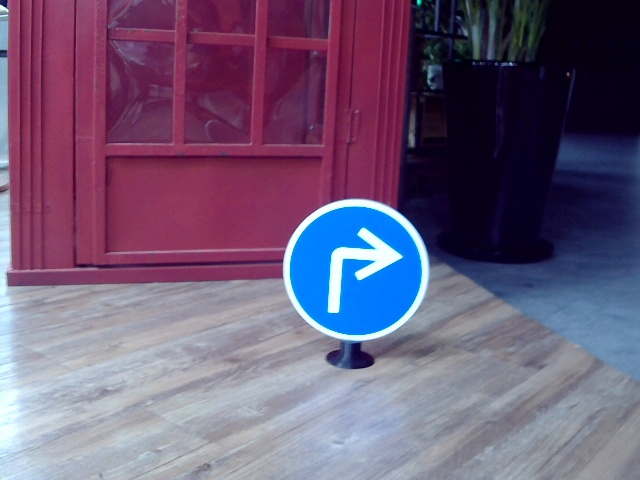turn_right: (321, 223, 405, 318)
